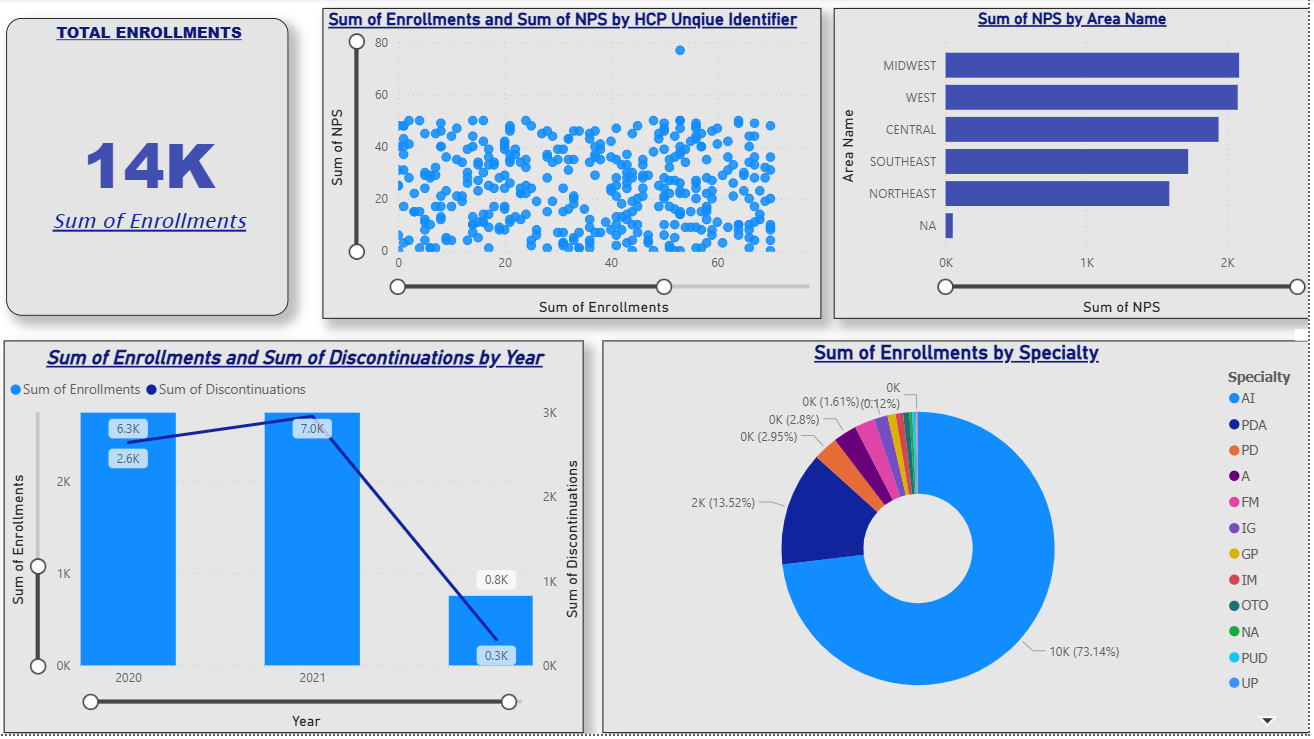

The page's visual inventory and layout, read from the dashboard file:
{"tool":"powerbi","page":{"name":"Page 1","canvas":[1280,720],"ordinal":0},"visuals":[{"type":"card","title":"TOTAL ENROLLMENTS","fields":{"Values":["Sum(Table11.Enrollments)"]},"box":[5.8,19,276,291],"z":0},{"type":"lineClusteredColumnComboChart","fields":{"Category":["Table11.Date of 1st Dispense.Variation.Date Hierarchy.Year","Table11.Date of 1st Dispense.Variation.Date Hierarchy.Quarter","Table11.Date of 1st Dispense.Variation.Date Hierarchy.Month","Table11.Date of 1st Dispense.Variation.Date Hierarchy.Day"],"Y":["Sum(Table11.Enrollments)"],"Y2":["Sum(Table11.Discontinuations)"]},"box":[3.4,335.5,567,384.2],"z":1000},{"type":"donutChart","fields":{"Category":["Table11.Specialty"],"Y":["Sum(Table11.Enrollments)"]},"box":[588.8,335.5,691.2,384.2],"z":2000},{"type":"scatterChart","fields":{"X":["Sum(Table11.Enrollments)"],"Y":["Sum(Table11.NPS)"],"Category":["Table11.HCP Unqiue Identifier "]},"box":[315.4,10.1,488.2,303.8],"z":3000},{"type":"clusteredBarChart","fields":{"Category":["Table11.Area Name"],"Y":["Sum(Table11.NPS)"]},"box":[815,10.1,465.1,303.8],"z":4000},{"type":"qnaVisual","box":[1267.2,324,13,11.5],"z":5000}]}

Visuals, with their boxes in screenshot pixels (x1, y1, x2, y2), scaled from the page's 1280x720 canvas onto the 1314x739 screenshot:
"TOTAL ENROLLMENTS" card: bbox=[6, 20, 289, 318]
lineClusteredColumnComboChart - Table11.Date of 1st Dispense.Variation.Date Hierarchy.Year x Table11.Date of 1st Dispense.Variation.Date Hierarchy.Quarter: bbox=[3, 344, 586, 738]
donutChart - Table11.Specialty x Sum(Table11.Enrollments): bbox=[604, 344, 1313, 738]
scatterChart - Sum(Table11.Enrollments) x Sum(Table11.NPS): bbox=[324, 10, 825, 322]
clusteredBarChart - Table11.Area Name x Sum(Table11.NPS): bbox=[837, 10, 1313, 322]
qnaVisual: bbox=[1301, 333, 1313, 344]
